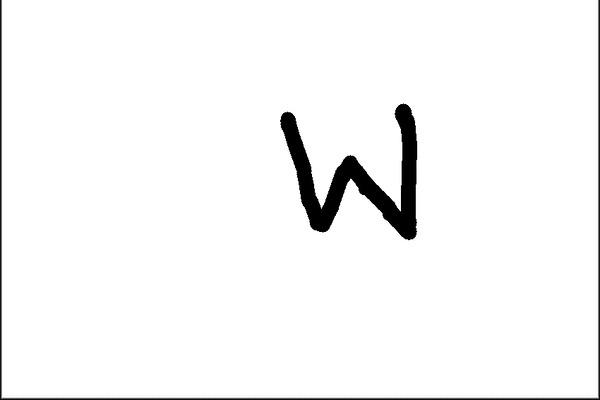w: (258, 90, 431, 251)
